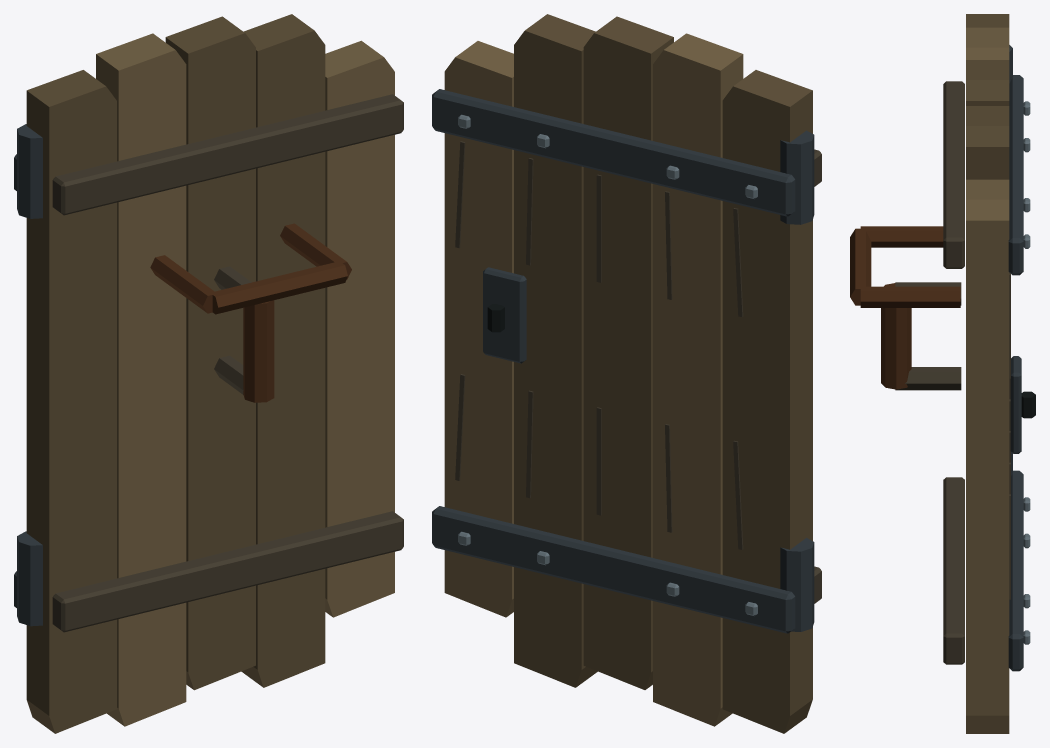
File: Door.glb
3 views of the same model, side by side, from view 1: azimuth 30°, elevation 25°; view 2: azimuth 150°, elevation 25°; view 3: azimuth 270°, elevation 25° (orthographic). The views are drawn at different scales.
Visible parts, largest first — view 1: Sculpture; view 2: Sculpture; view 3: Sculpture.
Boxes of the visible parts, box(x1,y1,x2,y2) form: Sculpture: box(14, 14, 403, 733); Sculpture: box(432, 14, 821, 733); Sculpture: box(850, 14, 1035, 733).
Size of the model in its own units: 0.793 by 1.37 by 0.366.
